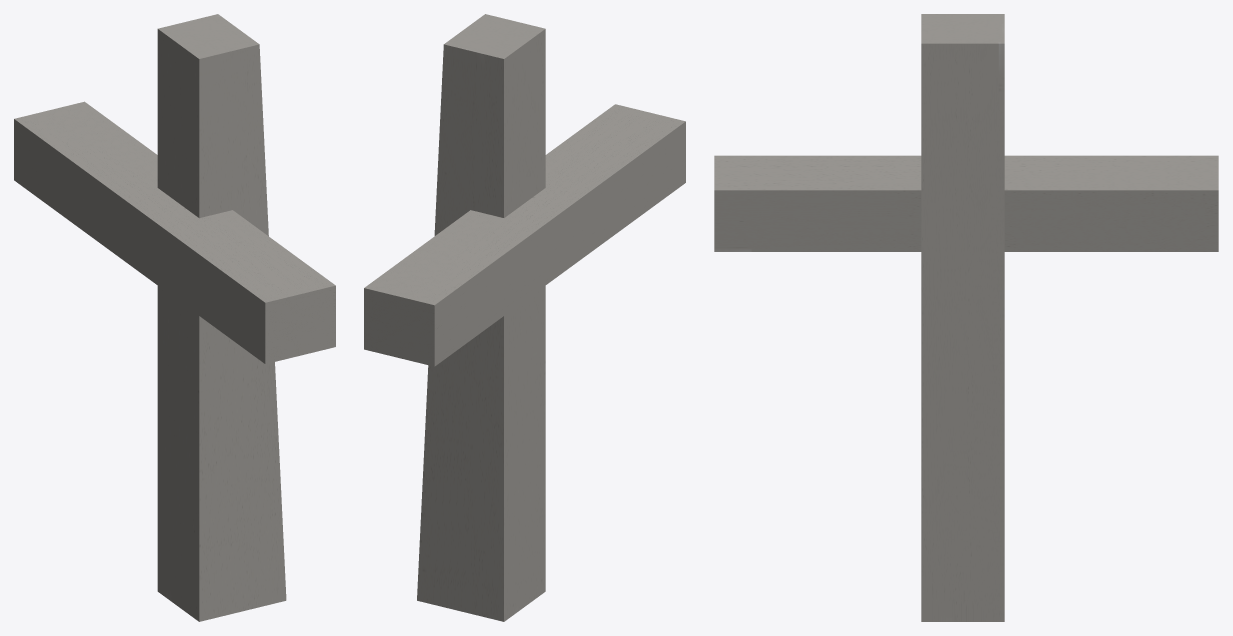
The model's file is tombstone-catholic.glb.
The picture shows the model from 3 angles, left to right: view 1: azimuth 30°, elevation 25°; view 2: azimuth 150°, elevation 25°; view 3: azimuth 270°, elevation 25°; orthographic projection.
Parts seen in each view (by area): view 1: Cube; view 2: Cube; view 3: Cube.
Part boxes in pixels (bbox=[...]): Cube: bbox=[14, 14, 335, 621]; Cube: bbox=[364, 14, 685, 621]; Cube: bbox=[714, 14, 1218, 621].
Bounding box in the file's own units: 0.00462 × 0.02 × 0.0162.
1 material, 1 textured.
